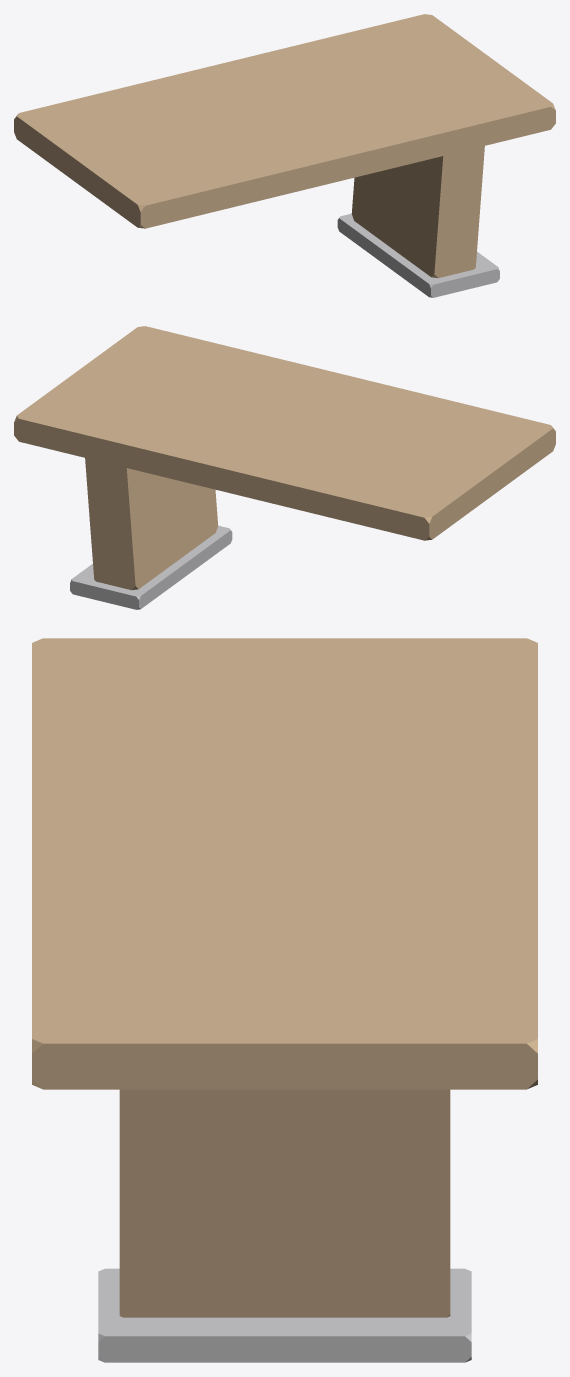
File: dining_table_low.glb
3 views of the same model, one above another, from view 1: azimuth 30°, elevation 25°; view 2: azimuth 150°, elevation 25°; view 3: azimuth 270°, elevation 25° (orthographic). The views are drawn at different scales.
Parts seen in each view (by area): view 1: WOOD_top, WOOD_DARK_leg, METAL_DARK_foot; view 2: WOOD_top, WOOD_DARK_leg, METAL_DARK_foot; view 3: WOOD_top, WOOD_DARK_leg, METAL_DARK_foot.
Part boxes in pixels (bbox=[...]): WOOD_top: bbox=[14, 14, 555, 228]; WOOD_DARK_leg: bbox=[351, 146, 484, 278]; METAL_DARK_foot: bbox=[337, 213, 499, 297]; WOOD_top: bbox=[14, 326, 555, 540]; WOOD_DARK_leg: bbox=[85, 458, 218, 590]; METAL_DARK_foot: bbox=[70, 525, 232, 609]; WOOD_top: bbox=[32, 638, 537, 1089]; WOOD_DARK_leg: bbox=[119, 1089, 450, 1317]; METAL_DARK_foot: bbox=[98, 1268, 471, 1362].
Size of the model in its own units: 1.8 by 0.74 by 0.95.
